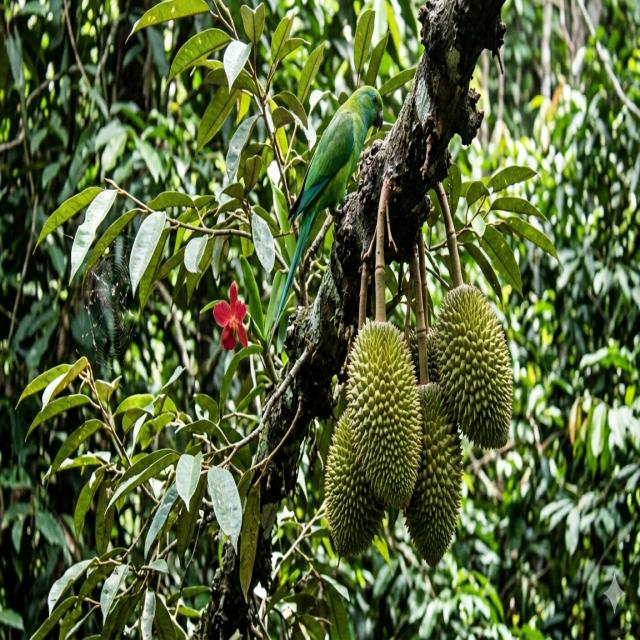immature: (342, 316, 423, 508), (432, 282, 513, 446), (402, 382, 464, 562), (324, 409, 389, 558), (408, 323, 441, 389)
